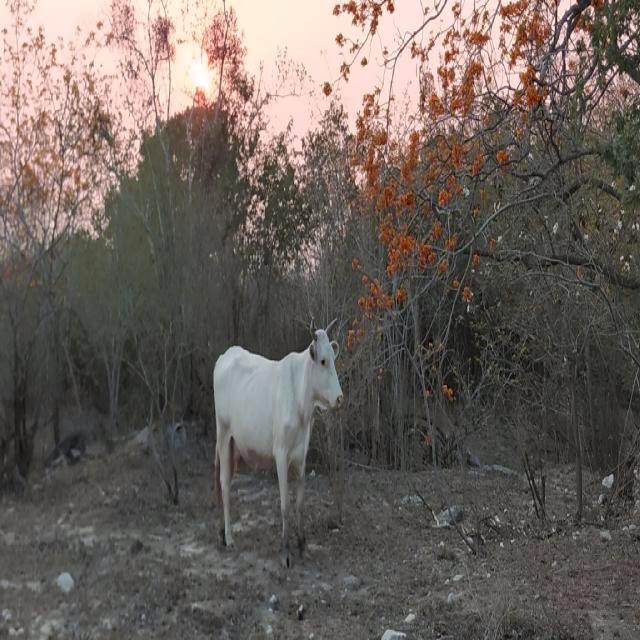cow: (214, 329, 342, 566)
